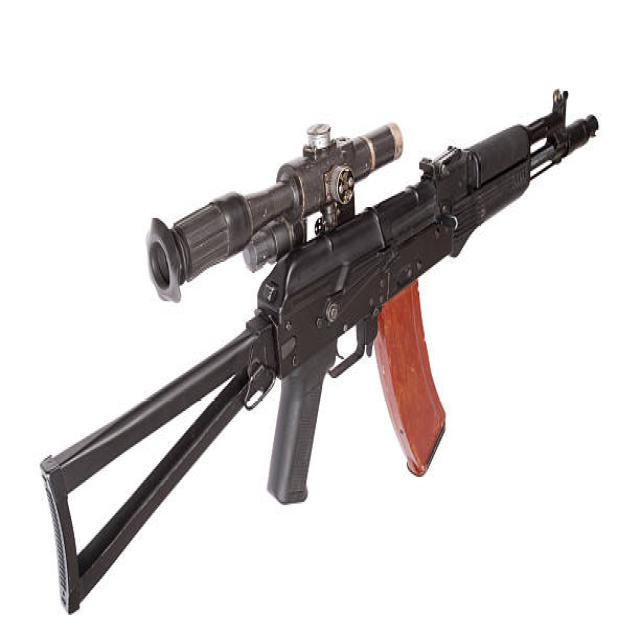rifle: (40, 76, 607, 619)
